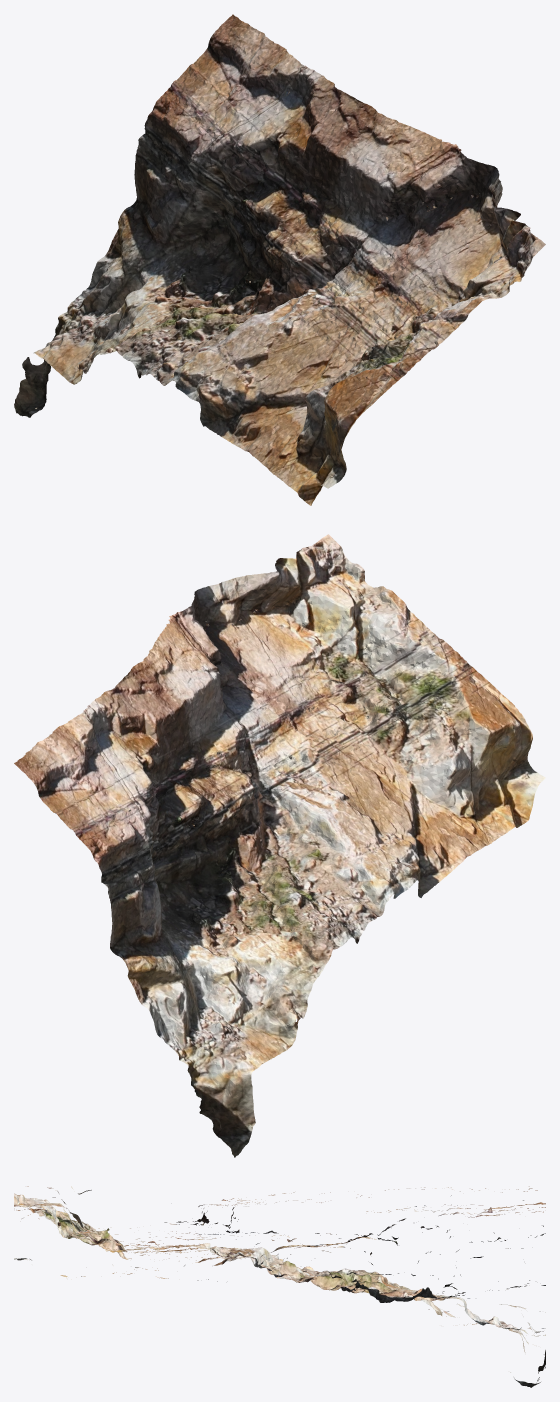
3 views of the same model, one above another, from view 1: azimuth 30°, elevation 25°; view 2: azimuth 150°, elevation 25°; view 3: azimuth 270°, elevation 25° (orthographic). The views are drawn at different scales.
Size of the model in its own units: 3.63 by 4.61 by 7.63.
2 materials, 2 textured.
